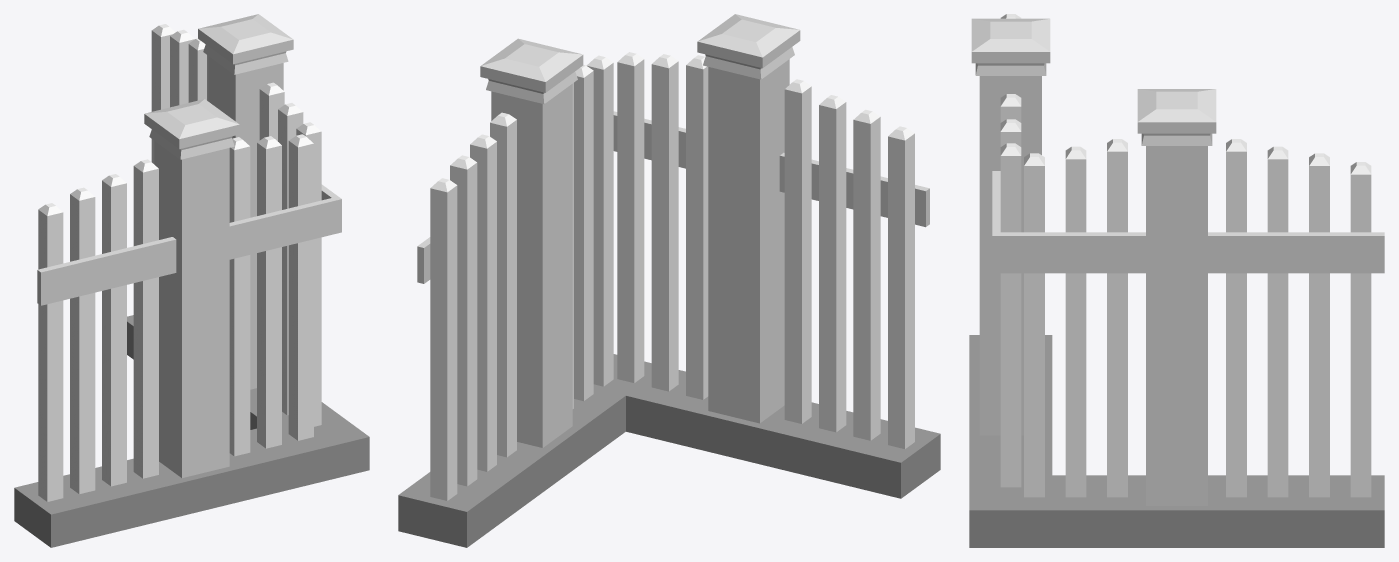
The model's file is Fence_04.fbx.
3 views of the same model, side by side, from view 1: azimuth 30°, elevation 25°; view 2: azimuth 150°, elevation 25°; view 3: azimuth 270°, elevation 25° (orthographic). The views are drawn at different scales.
Parts seen in each view (by area): view 1: Fence_04; view 2: Fence_04; view 3: Fence_04.
Part boxes in pixels (bbox=[...]): Fence_04: bbox=[14, 14, 369, 547]; Fence_04: bbox=[398, 14, 940, 547]; Fence_04: bbox=[969, 14, 1384, 547].
Size of the model in its own units: 200 by 229 by 200.
